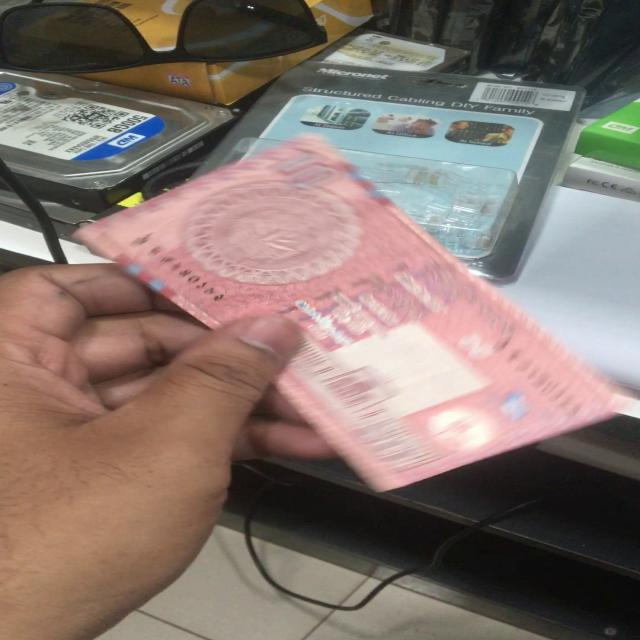Taka: (86, 135, 627, 470)
